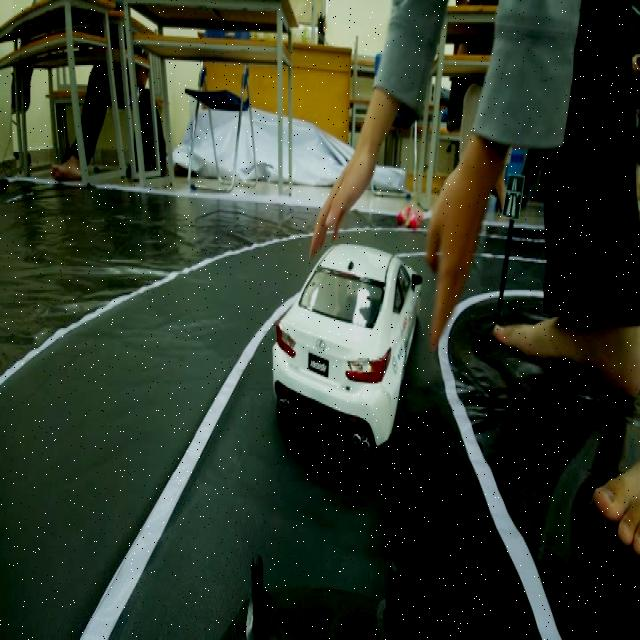car: (264, 237, 425, 487)
